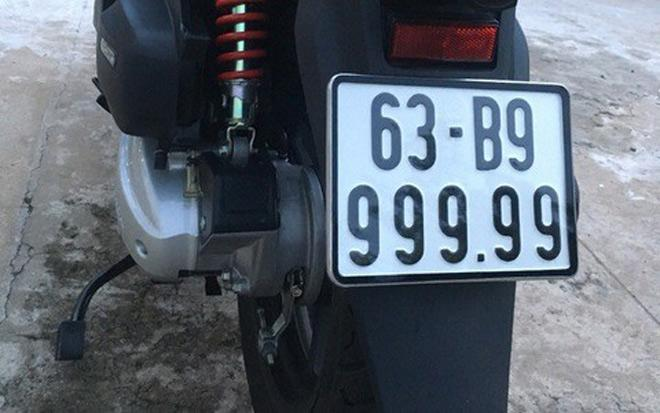numplate: (317, 66, 581, 285)
